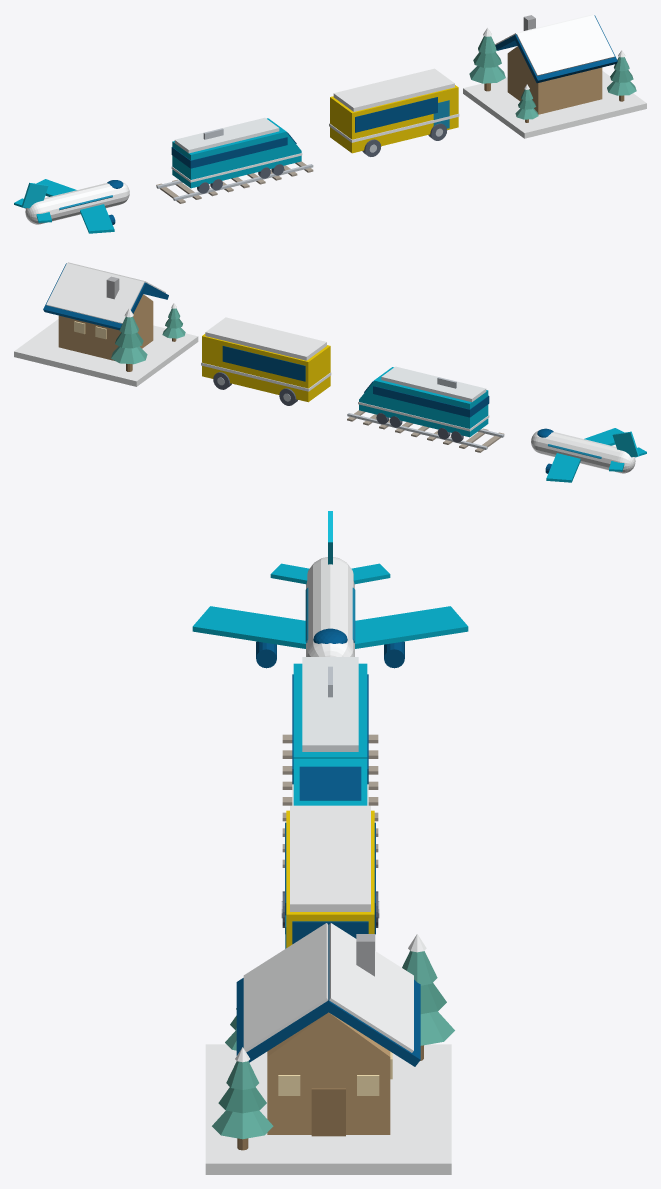
The model's file is travel-icons-set.glb.
The picture shows the model from 3 angles, top to bottom: view 1: azimuth 30°, elevation 25°; view 2: azimuth 150°, elevation 25°; view 3: azimuth 270°, elevation 25°; orthographic projection. The views are drawn at different scales.
Parts seen in each view (by area): view 1: chalet_snow_base, chalet_roof_snow_right, bus_body, chalet_walls, train_body, bus_roof, plane_fuselage, train_roof, bus_window_band, train_window_band, chalet_roof_right, plane_wing_right (+8 smaller); view 2: chalet_snow_base, bus_body, chalet_roof_snow_left, train_body, bus_roof, chalet_walls, plane_fuselage, train_roof, bus_window_band, train_window_band, chalet_roof_left, plane_wing_left (+7 smaller); view 3: chalet_snow_base, bus_roof, chalet_walls, chalet_roof_snow_right, chalet_roof_snow_left, train_roof, plane_fuselage, chalet_gable, plane_wing_left, plane_wing_right, train_body, train_windscreen (+7 smaller).
Part boxes in pixels (x1,y1,x2,y2): chalet_snow_base: (463,71,646,138); chalet_roof_snow_right: (516,15,614,75); bus_body: (330,85,458,153); chalet_walls: (507,53,602,114); train_body: (172,118,286,188); bus_roof: (333,68,454,111); plane_fuselage: (25,182,129,224); train_roof: (174,117,279,153); bus_window_band: (355,97,437,132); train_window_band: (171,137,287,168); chalet_roof_right: (513,16,617,83); plane_wing_right: (80,204,114,233); chalet_snow_base: (14,319,198,386); bus_body: (202,334,330,402); chalet_roof_snow_left: (46,263,144,323); train_body: (374,367,488,437); bus_roof: (205,317,326,360); chalet_walls: (58,302,153,360); plane_fuselage: (531,430,635,473); train_roof: (381,366,486,402); bus_window_band: (222,346,305,381); train_window_band: (373,386,489,417); chalet_roof_left: (43,264,147,330); plane_wing_left: (546,453,580,482); chalet_snow_base: (205,1044,451,1174); bus_roof: (290,805,370,911); chalet_walls: (267,1057,390,1134); chalet_roof_snow_right: (243,923,328,1052); chalet_roof_snow_left: (329,923,413,1052); train_roof: (302,657,358,751); plane_fuselage: (306,557,354,656); chalet_gable: (267,1012,390,1056); plane_wing_left: (355,606,468,648); plane_wing_right: (192,606,305,648); train_body: (293,663,367,758); train_windscreen: (299,766,361,800).
Bounding box in the file's own units: 11.15 × 1.45 × 2.24.
